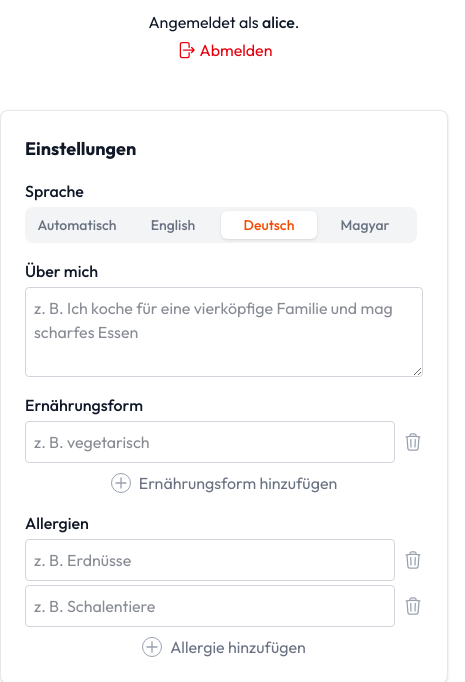
Test: ProfilePage › language slider › clears the stored language and re-detects the browser language when Auto is picked
Expected: the button "Deutsch" is shown, [221,211,317,239]
Expected: the text "Sprache" is shown, [25,179,84,203]
Click the button "Automatisch" at coordinates (77, 225), box [29,211,125,239]
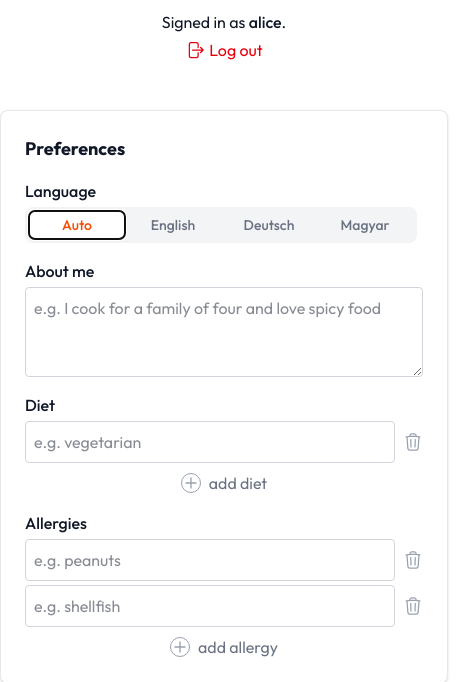
Result: the text "Language" is shown at [25,179,96,203]
